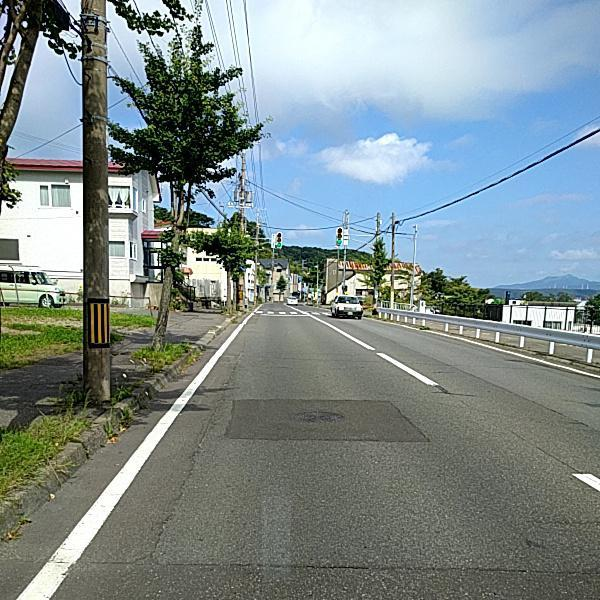D50: (290, 408, 343, 422)
